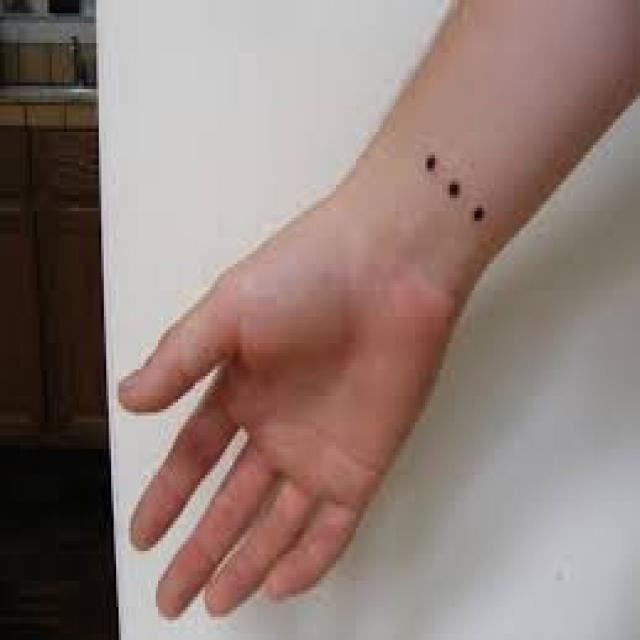bare_hand: (116, 196, 467, 620)
